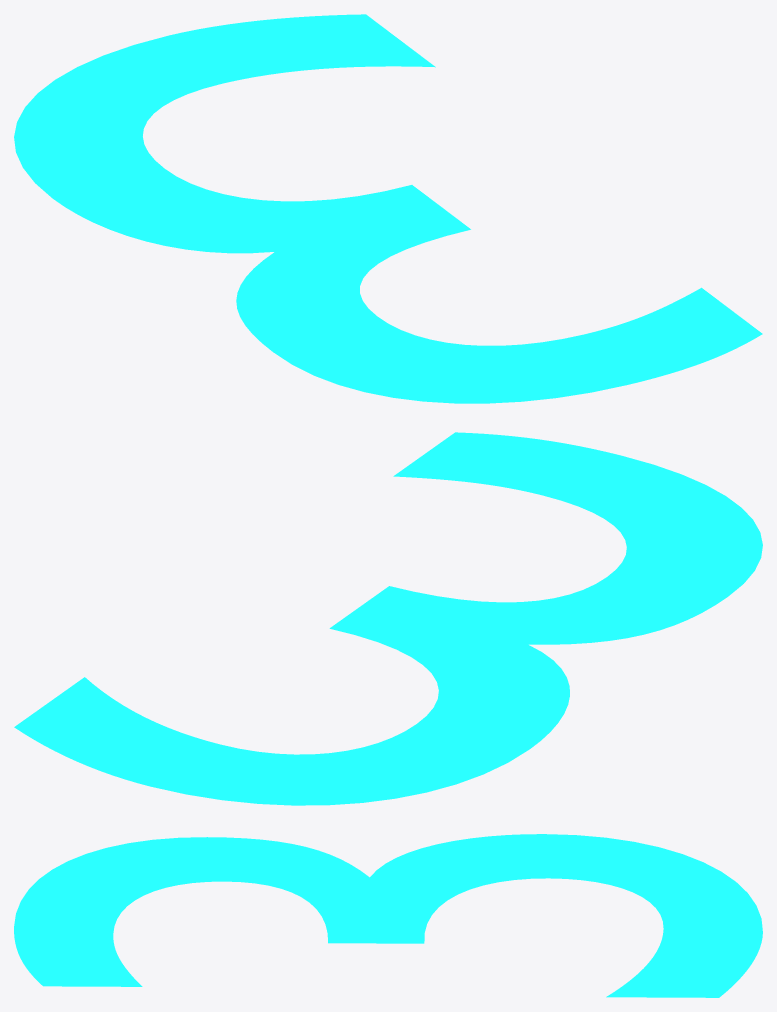
The model's file is numb_3_blue.glb.
3 renders of one model, top to bottom at view 1: azimuth 30°, elevation 25°; view 2: azimuth 150°, elevation 25°; view 3: azimuth 270°, elevation 25°, orthographic. The views are drawn at different scales.
Parts seen in each view (by area): view 1: 3_numb_blue; view 2: 3_numb_blue; view 3: 3_numb_blue.
Boxes of the visible parts, x1=… form: 3_numb_blue: x1=14, y1=14, x2=762, y2=403; 3_numb_blue: x1=14, y1=432, x2=762, y2=805; 3_numb_blue: x1=14, y1=834, x2=762, y2=997.
Bounding box in the file's own units: 1.16 × 4.82e-10 × 2.24.
